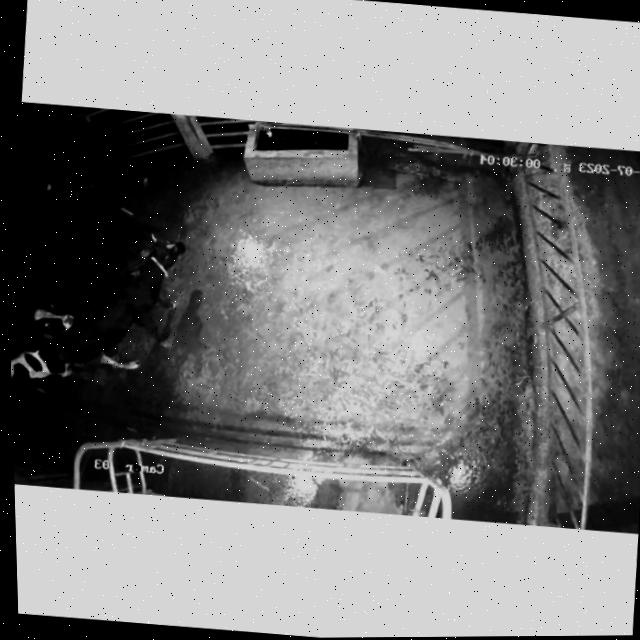propping: (12, 287, 108, 371)
